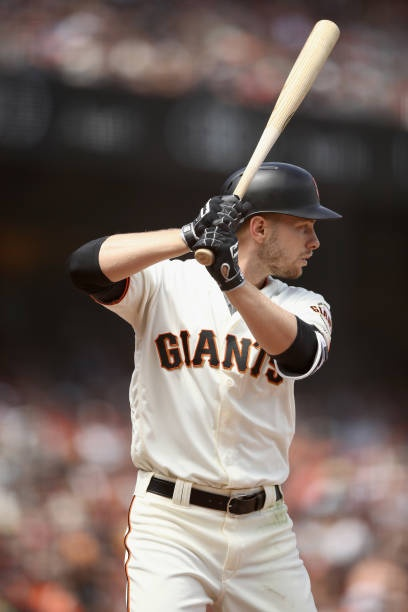bita: (189, 11, 334, 260)
